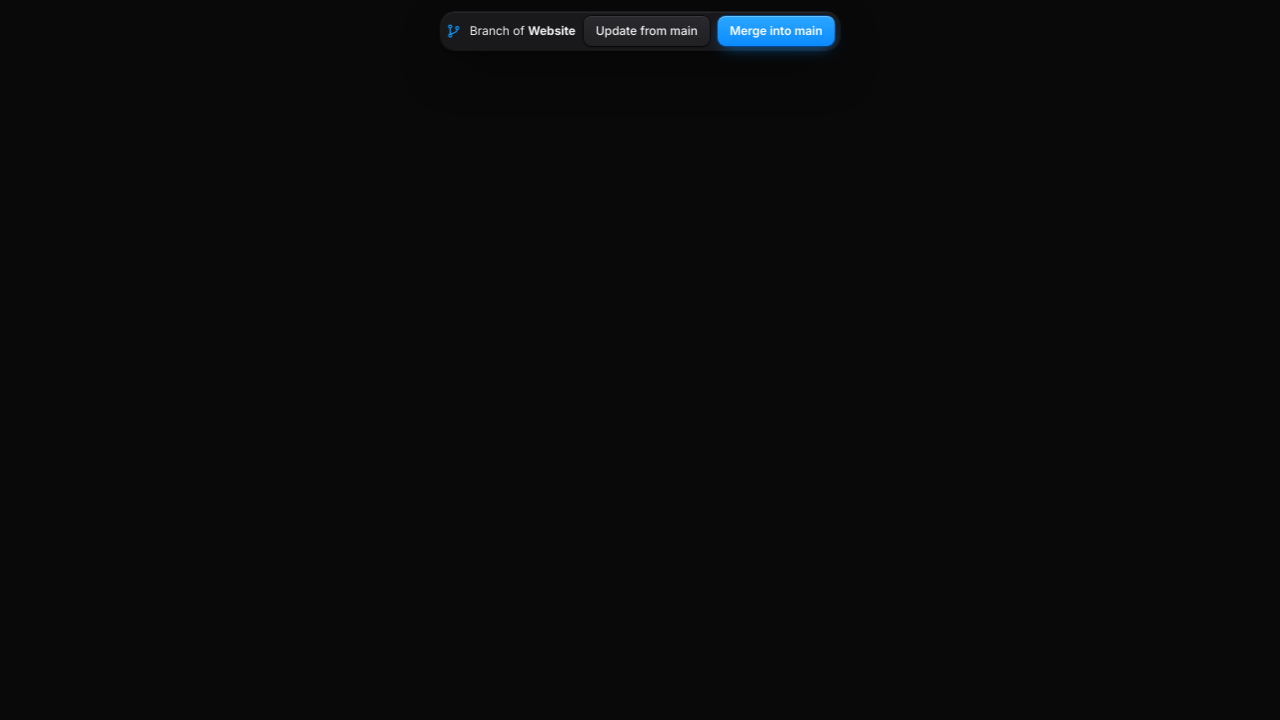
a shared file that is a branch › shows whose branch it is, with Update from main and Merge into main
expect the element "Branch" shows "Branch of Website": met, box [441,12,839,50]
Click the button "Merge into main".
click(776, 31)  # box [718,16,834,46]
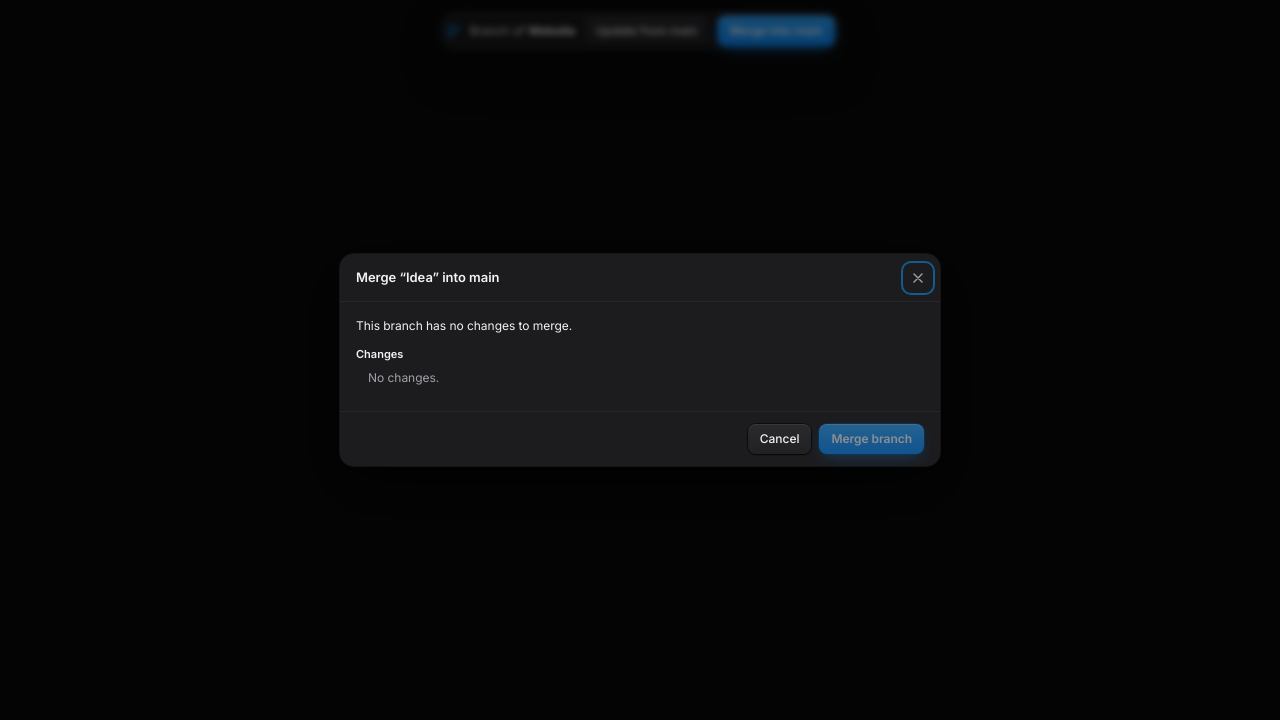
expect the text "This branch has no changes to merge." is shown: met, box [356,318,572,333]
expect the button "Merge branch" is disabled: met, box [819,424,924,454]
